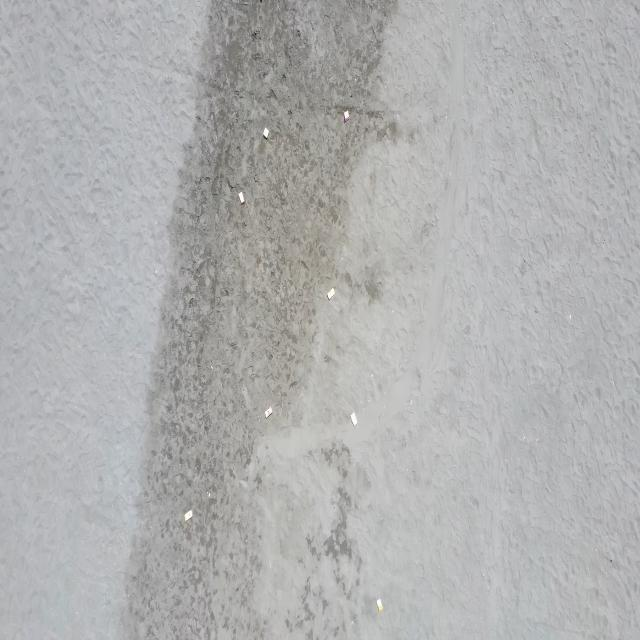Garbage: (183, 510, 192, 520), (376, 597, 382, 612), (328, 287, 335, 299), (264, 407, 272, 416), (351, 412, 356, 426), (238, 192, 243, 203), (263, 127, 268, 138), (344, 111, 348, 121), (208, 491, 209, 496)
